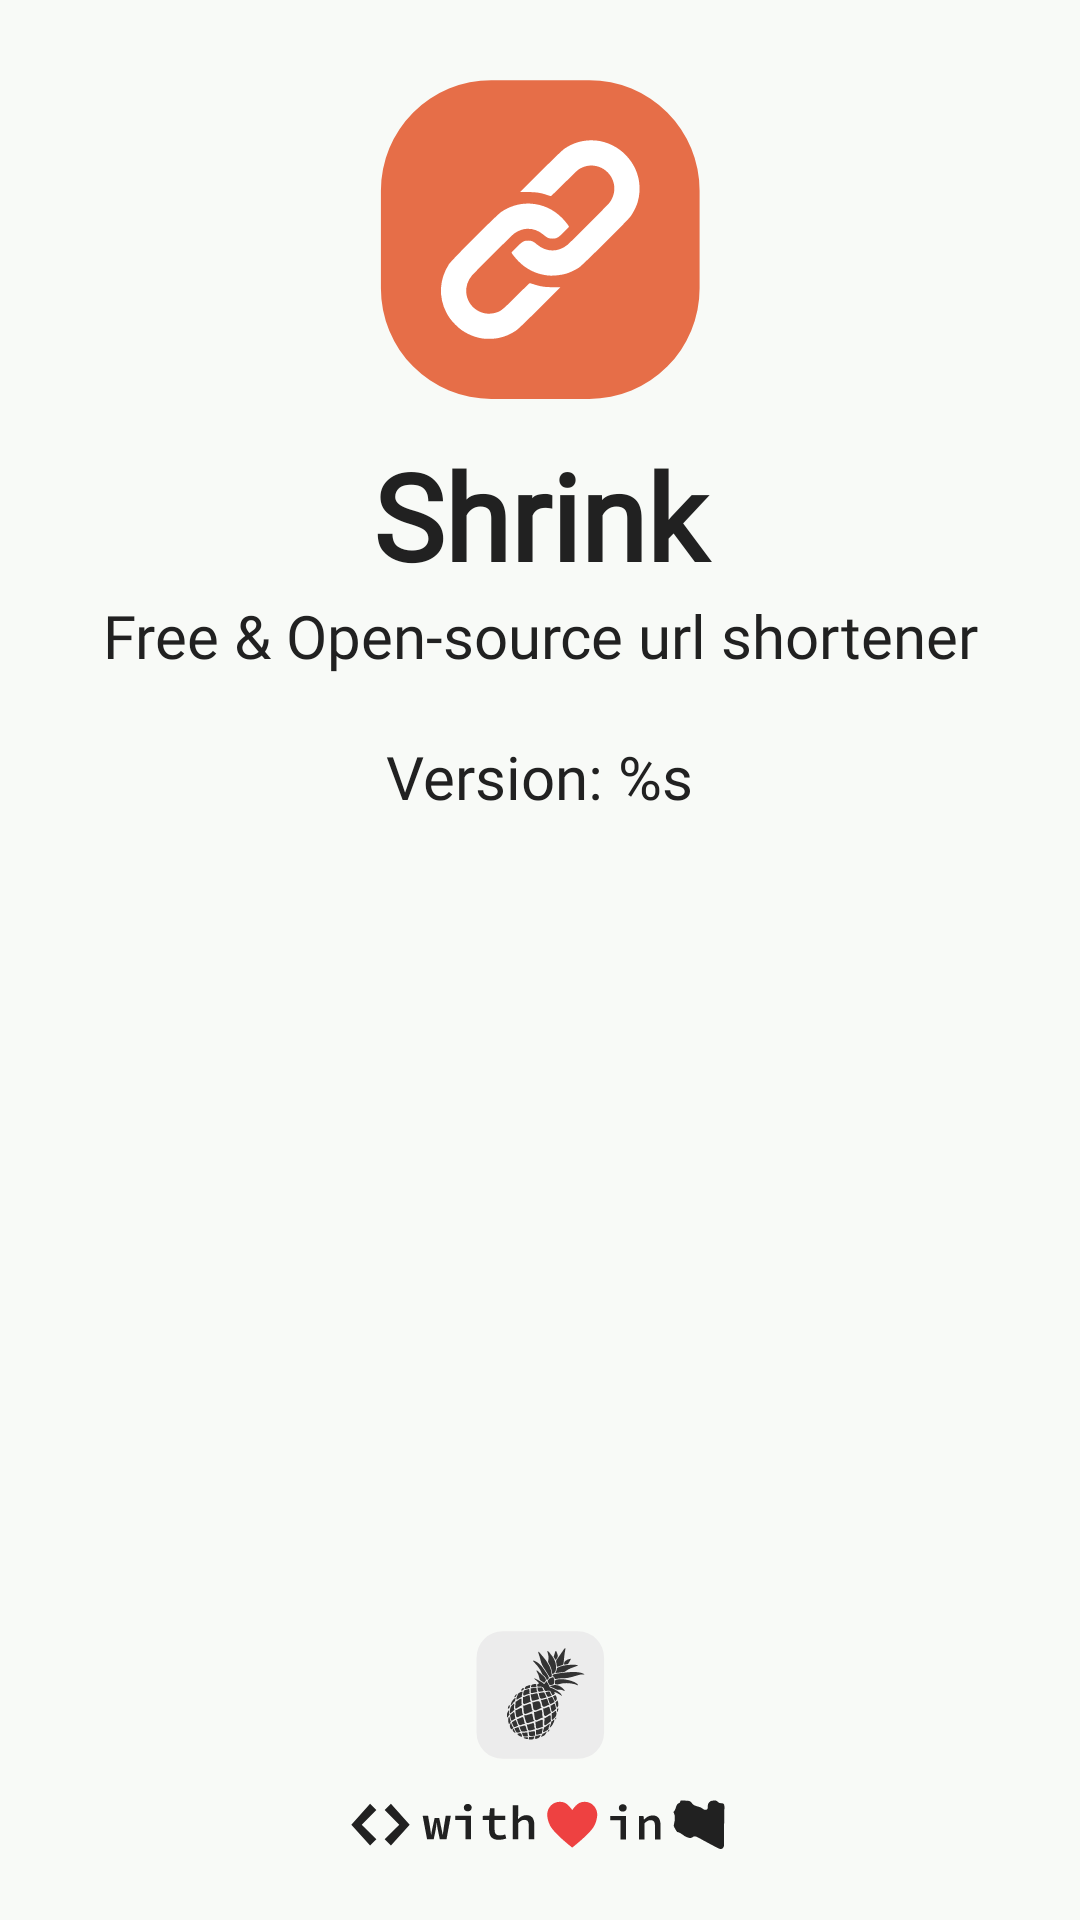

Icons on this 1080×1920 Android screen, each with the point to tap as (x=x, y=y):
ananas: (x=540, y=1695)
